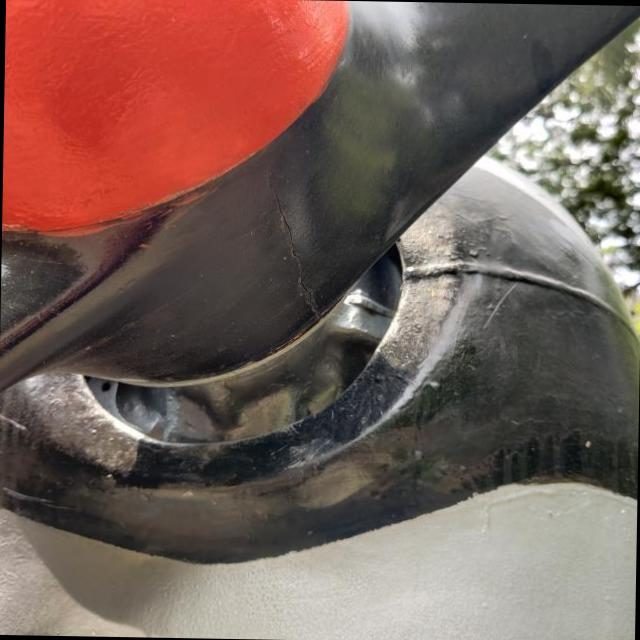Crack: (274, 198, 334, 337)
